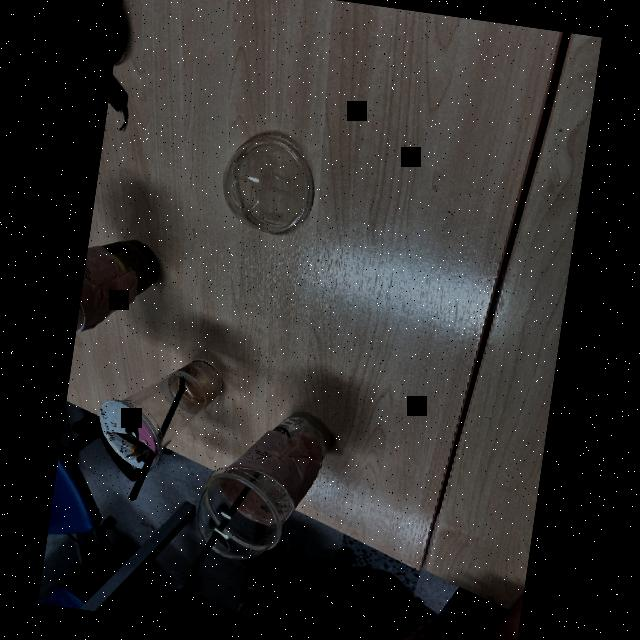plastic_cup: (183, 399, 337, 551), (90, 341, 229, 468), (78, 218, 169, 326)
plastic_cup_lid: (207, 124, 333, 250), (182, 464, 296, 563)
straw: (173, 458, 265, 586), (118, 367, 194, 501)
